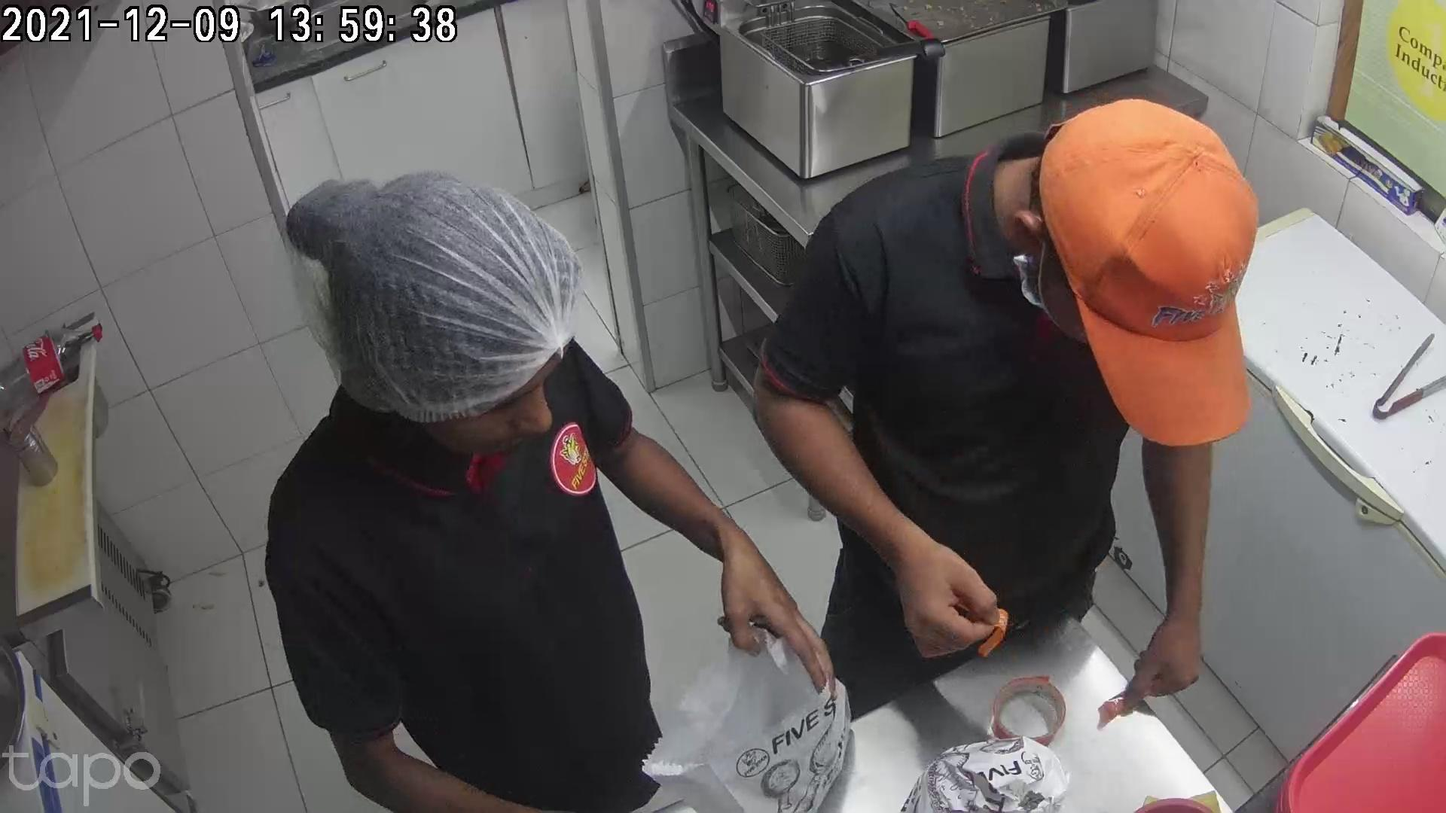no_gloves: (877, 523, 995, 654), (1132, 592, 1199, 691)
